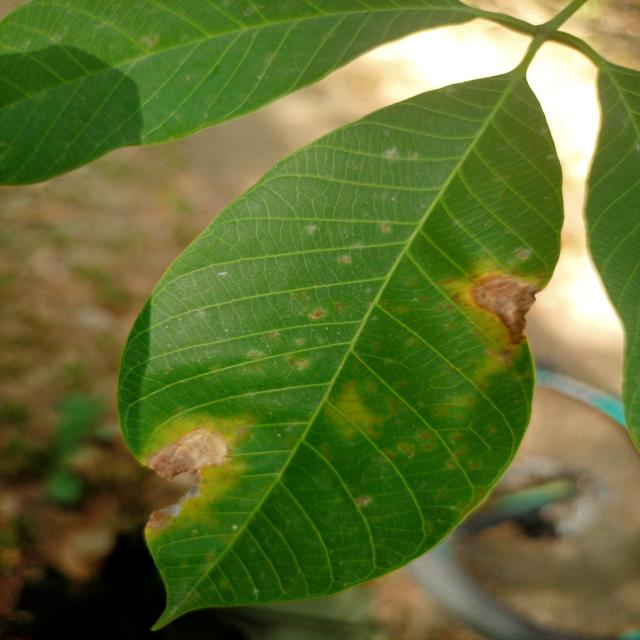Leaf-Blight: (472, 273, 542, 346), (148, 426, 230, 484)
